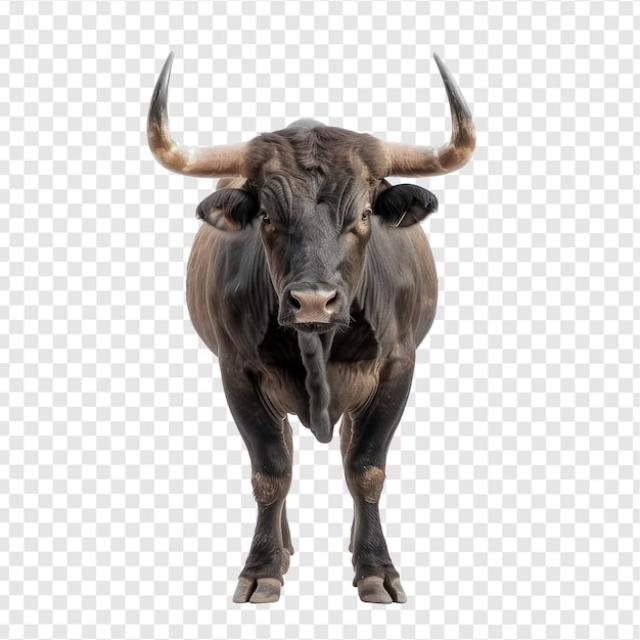Ox: (141, 44, 487, 610)
